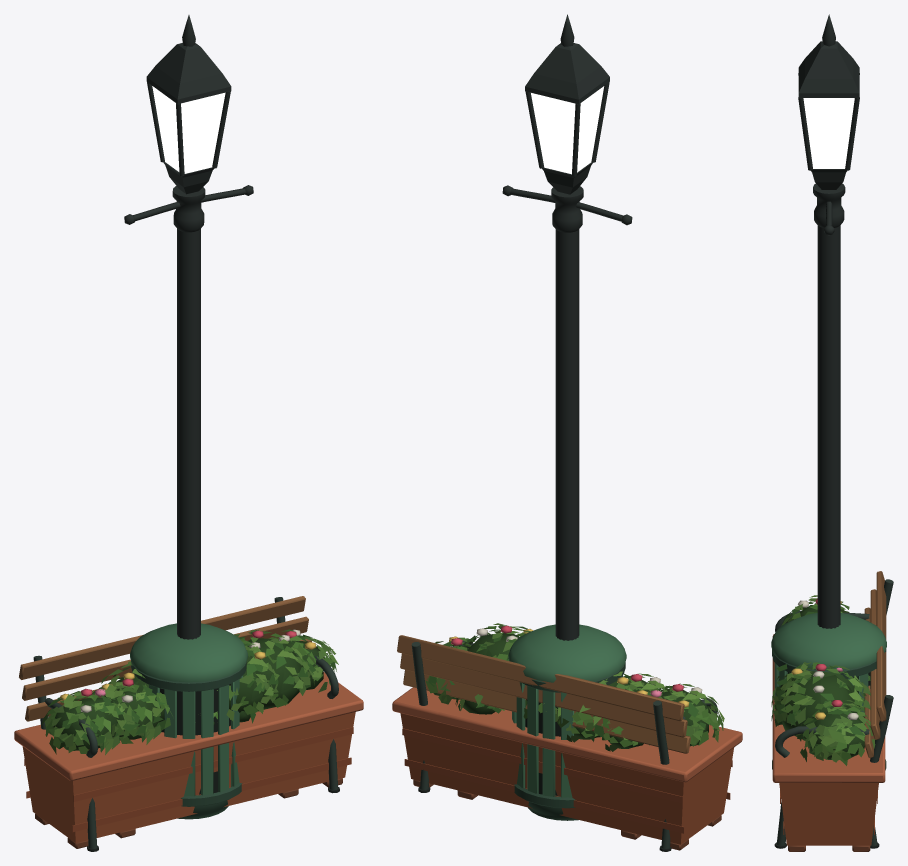
File: gloryland-street-props.glb
The picture shows the model from 3 angles, left to right: view 1: azimuth 30°, elevation 25°; view 2: azimuth 150°, elevation 25°; view 3: azimuth 270°, elevation 25°; orthographic projection.
Parts seen in each view (by area): view 1: Planter_wide, Lamp, Planter, Bin, Bench; view 2: Planter_wide, Lamp, Planter, Bench, Bin; view 3: Lamp, Planter_wide, Bin, Bench, Planter.
Boxes of the visible parts, x1,y1,x2,y2 form: Planter_wide: [14, 629, 363, 848]; Lamp: [124, 15, 253, 639]; Planter: [92, 629, 318, 838]; Bin: [130, 623, 247, 819]; Bench: [19, 596, 339, 851]; Planter_wide: [392, 630, 742, 850]; Lamp: [502, 14, 632, 640]; Planter: [438, 623, 670, 839]; Bench: [397, 635, 717, 851]; Bin: [508, 624, 626, 820]; Lamp: [798, 14, 859, 628]; Planter_wide: [771, 595, 885, 851]; Bin: [771, 613, 886, 770]; Bench: [774, 571, 893, 848]; Planter: [771, 658, 885, 753].
Size of the model in its own units: 1.67 by 4.25 by 0.6096.
